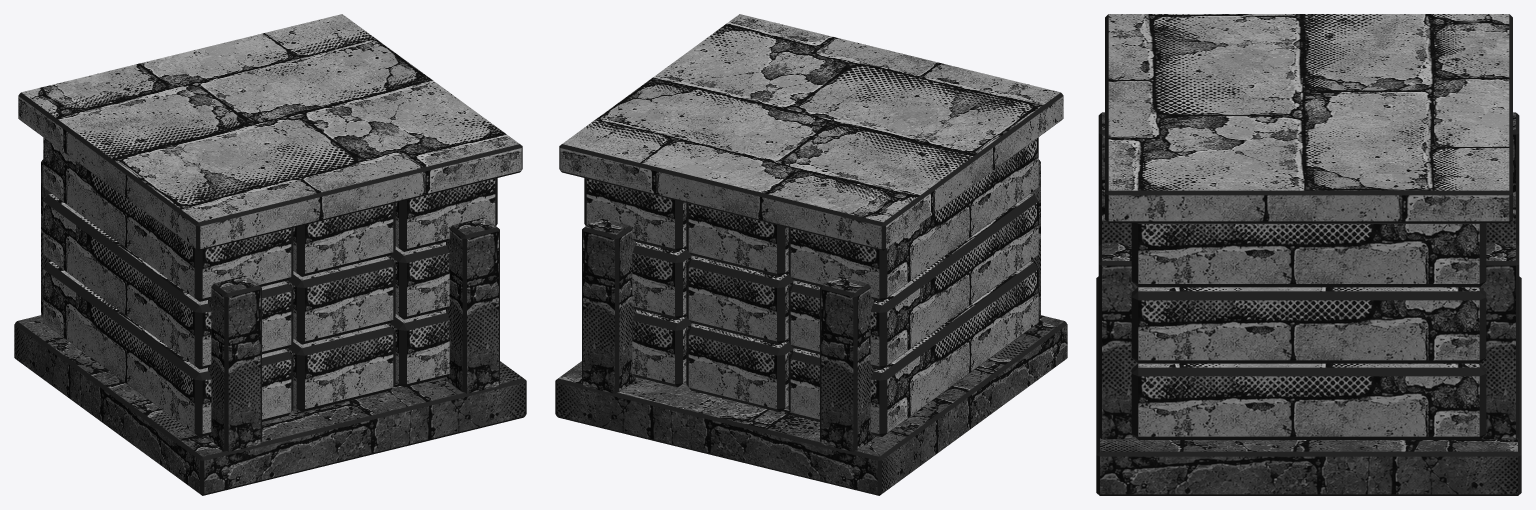
The model's file is wall.glb.
3 renders of one model, left to right at view 1: azimuth 30°, elevation 25°; view 2: azimuth 150°, elevation 25°; view 3: azimuth 270°, elevation 25°, orthographic. The views are drawn at different scales.
Parts seen in each view (by area): view 1: Coping, Plinth, Masonry course.003, Masonry course, Masonry course.006, Buttress, Buttress.001, Masonry course.001, Masonry course.004, Masonry course.007, Masonry course.008, Masonry course.005 (+2 smaller); view 2: Coping, Plinth, Masonry course.003, Masonry course, Masonry course.006, Buttress.002, Buttress.003, Masonry course.001, Masonry course.004, Masonry course.007, Masonry course.008, Masonry course.005 (+2 smaller); view 3: Coping, Masonry course.002, Masonry course.005, Plinth, Masonry course.008, Buttress.001, Buttress.003, Buttress, Buttress.002.
Boxes of the visible parts, left/top/right/bottom form: Coping: left=18, top=14, right=522, bottom=250; Plinth: left=14, top=315, right=526, bottom=495; Masonry course.003: left=43, top=194, right=293, bottom=369; Masonry course: left=43, top=261, right=293, bottom=436; Masonry course.006: left=43, top=137, right=293, bottom=301; Buttress: left=208, top=275, right=261, bottom=451; Buttress.001: left=446, top=217, right=499, bottom=393; Masonry course.001: left=285, top=324, right=395, bottom=412; Masonry course.004: left=285, top=256, right=395, bottom=344; Masonry course.007: left=293, top=203, right=395, bottom=276; Masonry course.008: left=395, top=178, right=497, bottom=251; Masonry course.005: left=387, top=242, right=449, bottom=319; Coping: left=559, top=14, right=1063, bottom=250; Plinth: left=555, top=315, right=1067, bottom=495; Masonry course.003: left=788, top=194, right=1038, bottom=369; Masonry course: left=788, top=261, right=1038, bottom=436; Masonry course.006: left=788, top=137, right=1038, bottom=301; Buttress.002: left=820, top=275, right=873, bottom=451; Buttress.003: left=582, top=217, right=635, bottom=393; Masonry course.001: left=686, top=324, right=796, bottom=412; Masonry course.004: left=686, top=256, right=796, bottom=344; Masonry course.007: left=686, top=203, right=788, bottom=276; Masonry course.008: left=584, top=178, right=686, bottom=251; Masonry course.005: left=632, top=242, right=694, bottom=319; Coping: left=1105, top=14, right=1512, bottom=222; Masonry course.002: left=1131, top=363, right=1486, bottom=439; Masonry course.005: left=1131, top=287, right=1486, bottom=363; Plinth: left=1096, top=276, right=1521, bottom=495; Masonry course.008: left=1131, top=223, right=1486, bottom=287; Buttress.001: left=1098, top=243, right=1137, bottom=439; Buttress.003: left=1480, top=243, right=1519, bottom=439; Buttress: left=1098, top=112, right=1131, bottom=245; Buttress.002: left=1486, top=112, right=1519, bottom=245.
Size of the model in its own units: 0.96 by 0.76 by 0.96.
Materials: 2 (1 with a texture image).
